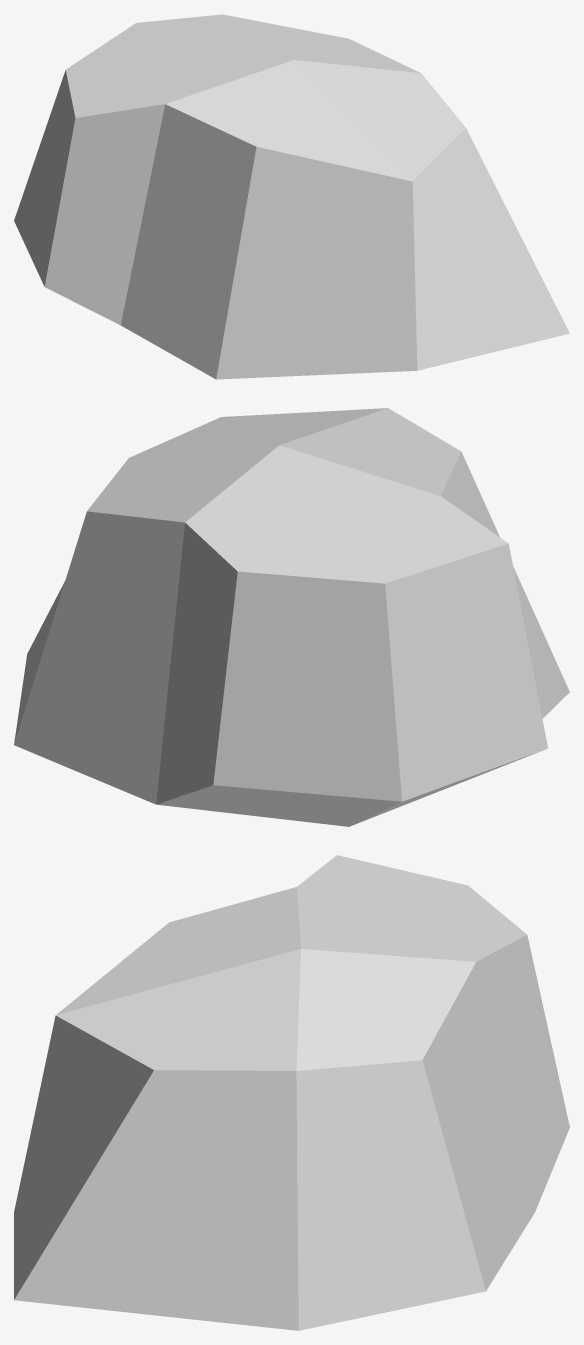
File: rock-003.glb
3 views of the same model, one above another, from view 1: azimuth 30°, elevation 25°; view 2: azimuth 150°, elevation 25°; view 3: azimuth 270°, elevation 25° (orthographic). The views are drawn at different scales.
Parts seen in each view (by area): view 1: Rock.003; view 2: Rock.003; view 3: Rock.003.
Boxes of the visible parts, bbox=[...] form: Rock.003: bbox=[14, 14, 569, 379]; Rock.003: bbox=[14, 408, 569, 826]; Rock.003: bbox=[14, 855, 569, 1330].
Bounding box in the file's own units: 1.76 × 0.8459 × 1.62.
Materials: 1 (1 with a texture image).
